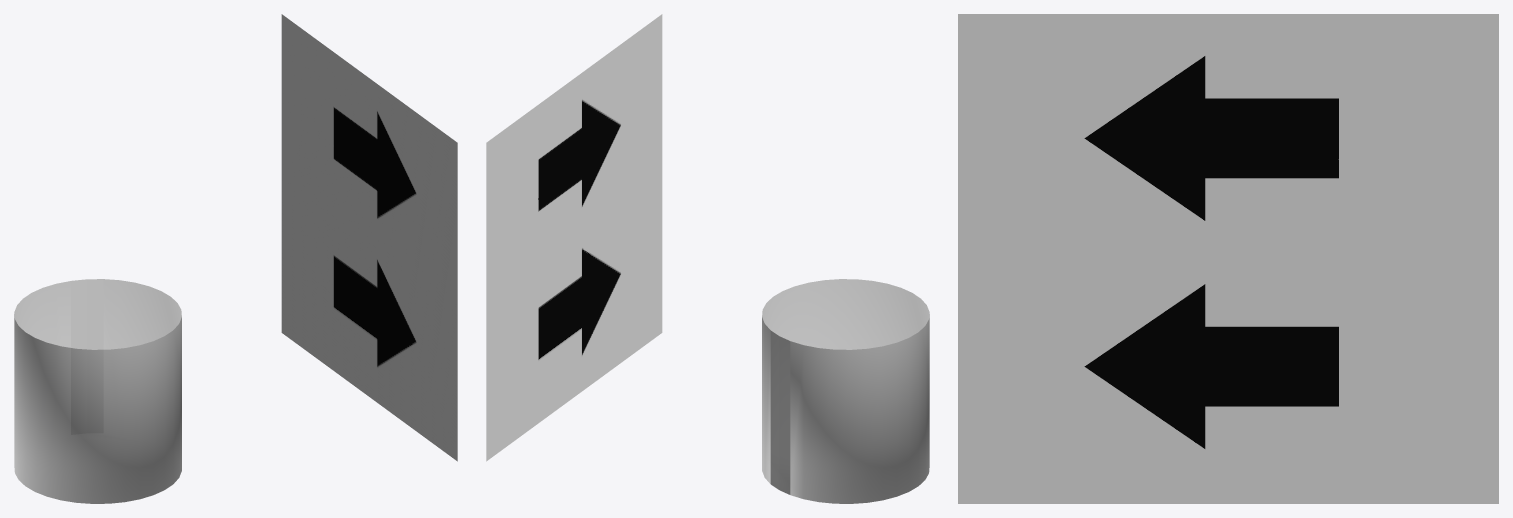
The model's file is escena2_refr.fbx.
3 renders of one model, left to right at view 1: azimuth 30°, elevation 25°; view 2: azimuth 150°, elevation 25°; view 3: azimuth 270°, elevation 25°, orthographic. The views are drawn at different scales.
Parts seen in each view (by area): view 1: Plane.002, Cylinder; view 2: Plane.002, Cylinder; view 3: Plane.002.
Boxes of the visible parts, x1,y1,x2,y2 form: Plane.002: (281,14,457,461); Cylinder: (14,279,181,503); Plane.002: (486,14,662,461); Cylinder: (762,279,929,503); Plane.002: (958,14,1498,503).
Size of what is drawn, in the model's own units: 5.94 by 5.34 by 5.26.
